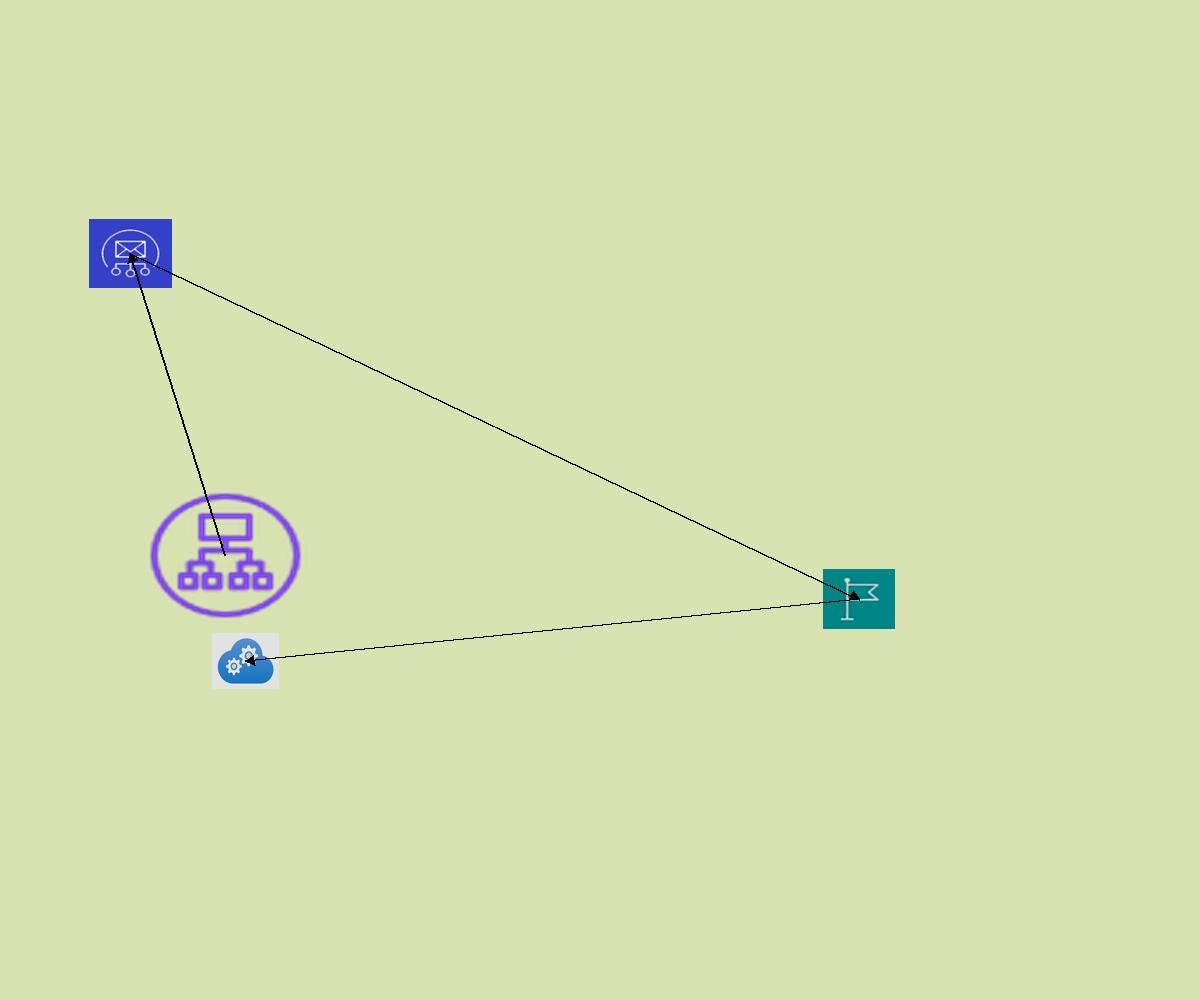AWS-Region: (823, 569, 895, 629)
AWS-Res_Elastic-Load-Balancing_Application-Load-Balancer: (144, 488, 307, 623)
AWS-Simple-Email-Service: (89, 219, 172, 288)
Azure_cloud_services: (212, 633, 279, 689)
